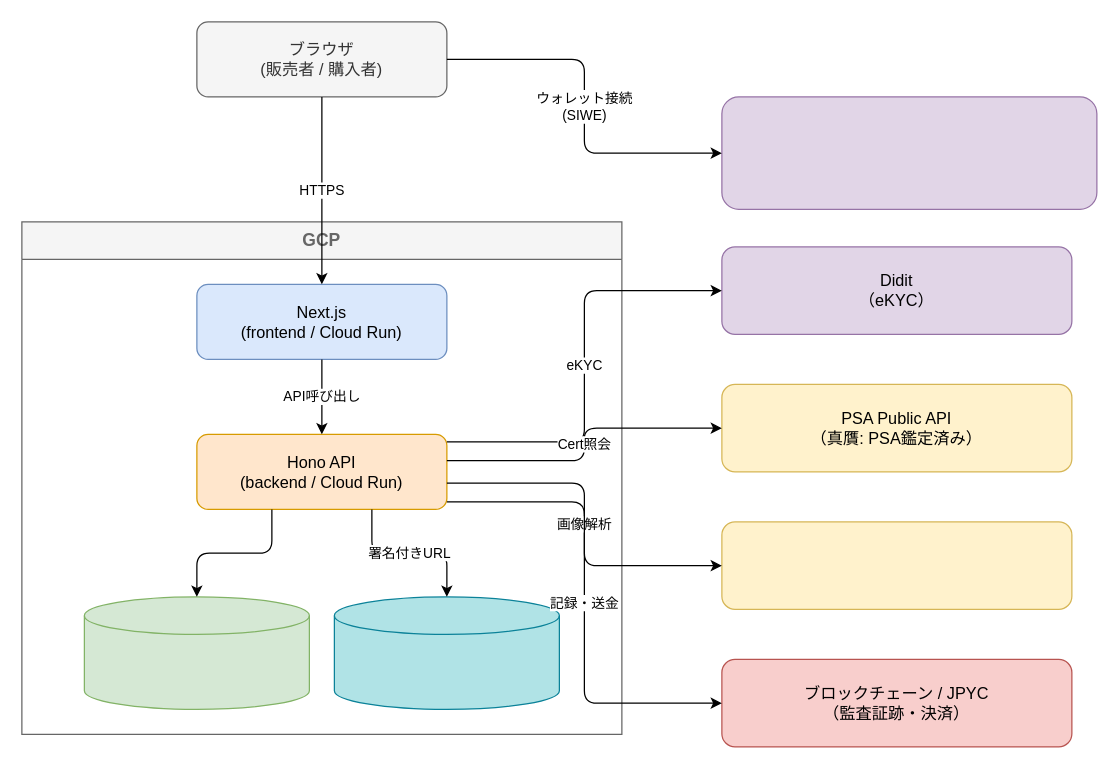
Some shapes in this 1119 by 769 pixel diagram are drawn without their labels. The shapes that lost their labels are listed below. From the top down, each one's centre as x and y in pixels, then its label:
the point at 909,152: MetaMask Embedded Wallets （旧Web3Auth / ウォレット・ソーシャルログイン）
the point at 896,565: Google Vision API （真贋: 未鑑定）
the point at 196,652: PostgreSQL (Cloud SQL)
the point at 446,652: Cloud Storage (カード画像)
